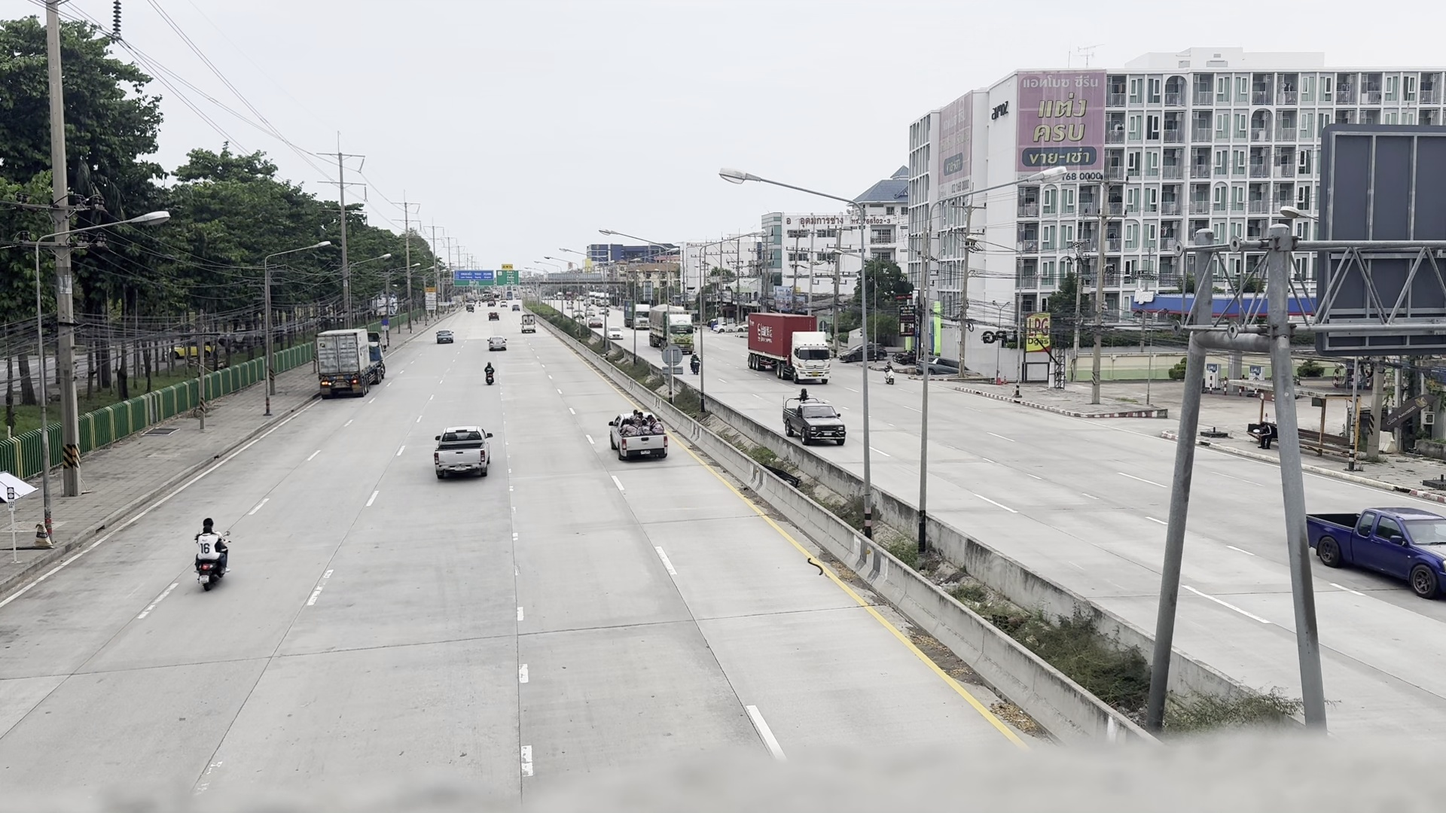bus: (746, 298, 825, 379), (314, 327, 382, 398)
car: (1307, 508, 1445, 599), (1337, 509, 1445, 566), (609, 408, 667, 462), (783, 399, 848, 446), (435, 425, 489, 480)
motorbike: (193, 508, 231, 591)
truck: (790, 333, 833, 383)
